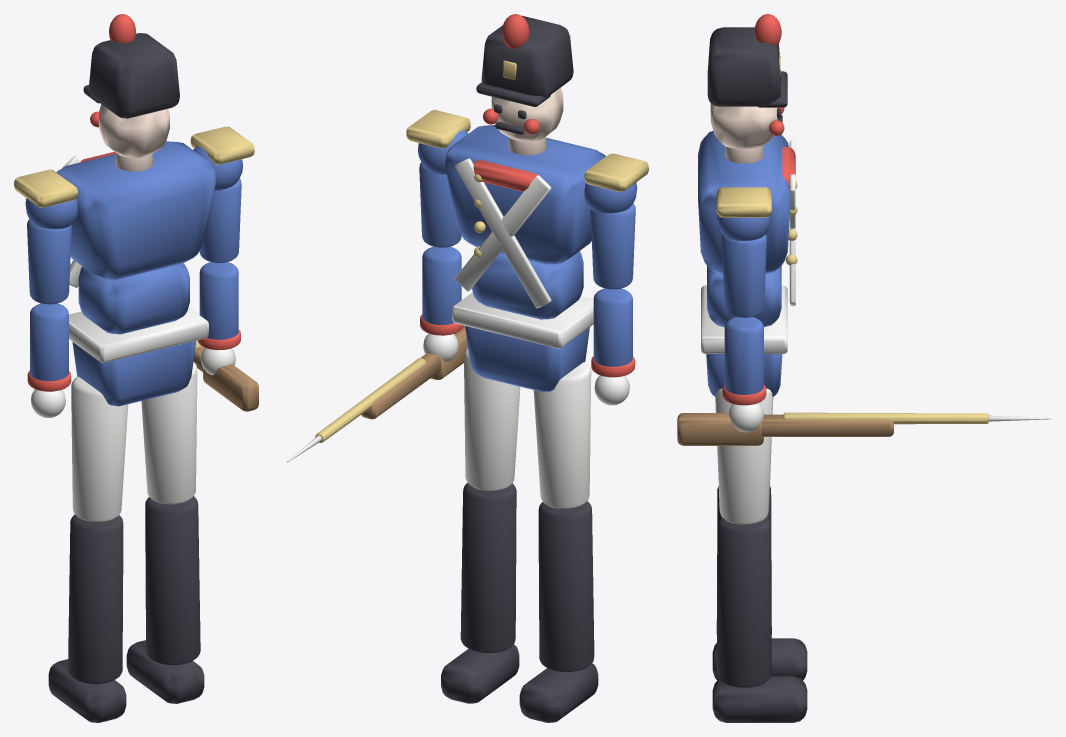
Rendered from soldier.glb.
The picture shows the model from 3 angles, left to right: view 1: azimuth 30°, elevation 25°; view 2: azimuth 150°, elevation 25°; view 3: azimuth 270°, elevation 25°; orthographic projection.
Visible parts, largest first — view 1: chest, head, hips, shin_l, shin_r, thigh_l, upper_arm_l, abdomen, thigh_r, upper_arm_r, lower_arm_l, lower_arm_r (+5 smaller); view 2: chest, head, hips, shin_l, shin_r, thigh_l, upper_arm_l, thigh_r, upper_arm_r, abdomen, rifle, lower_arm_l (+5 smaller); view 3: shin_r, head, chest, rifle, upper_arm_r, thigh_r, foot_r, lower_arm_r, hips, abdomen, foot_l, hand_r.
Part boxes in pixels (x1,y1,x2,y2): chest: (56, 141, 216, 287); head: (83, 14, 179, 157); hips: (69, 307, 208, 406); shin_l: (68, 514, 123, 683); shin_r: (145, 496, 200, 664); thigh_l: (71, 376, 128, 521); upper_arm_l: (14, 169, 77, 304); abdomen: (78, 263, 189, 334); thigh_r: (141, 362, 197, 504); upper_arm_r: (190, 126, 254, 262); lower_arm_l: (27, 303, 71, 391); lower_arm_r: (197, 262, 240, 350); chest: (445, 125, 605, 308); head: (476, 14, 573, 141); hips: (452, 292, 593, 392); shin_l: (538, 501, 594, 671); shin_r: (460, 483, 516, 652); thigh_l: (533, 362, 591, 508); upper_arm_l: (584, 153, 648, 289); thigh_r: (464, 347, 520, 490); upper_arm_r: (406, 110, 470, 247); abdomen: (472, 251, 583, 319); rifle: (287, 325, 467, 462); lower_arm_l: (591, 288, 635, 377); shin_r: (716, 517, 771, 687); head: (707, 14, 787, 149); chest: (698, 131, 797, 306); rifle: (677, 412, 1051, 445); upper_arm_r: (716, 187, 771, 317); thigh_r: (715, 388, 773, 524); foot_r: (712, 676, 807, 722); lower_arm_r: (722, 317, 766, 405); hips: (701, 285, 787, 397); abdomen: (707, 266, 781, 327); foot_l: (712, 638, 807, 680); hand_r: (728, 403, 763, 432).
Size of the model in its own units: 0.64 by 1.91 by 0.95.
